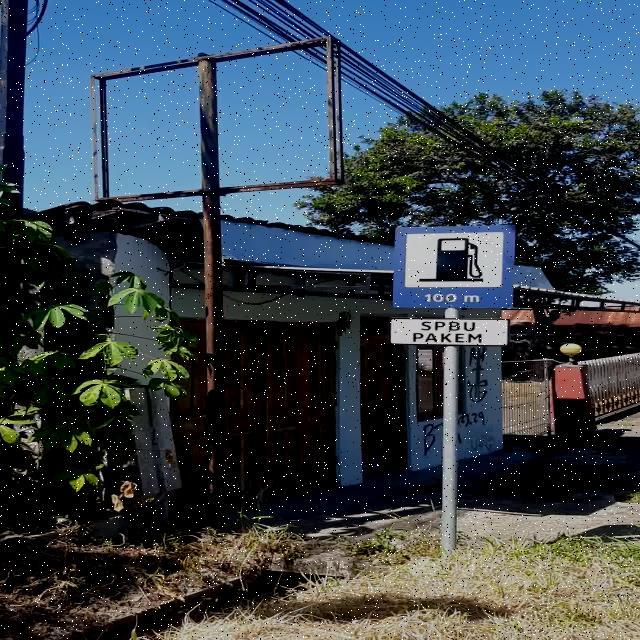Pom Bensin: (392, 225, 515, 308)
